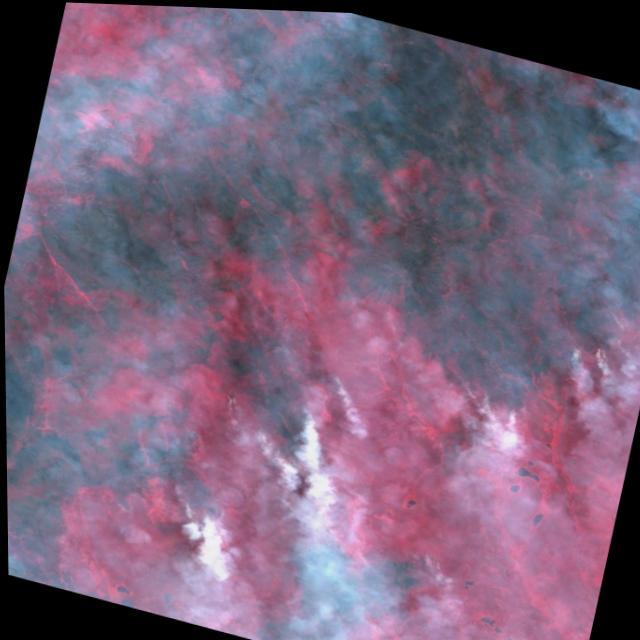fire: (175, 333, 373, 484), (424, 348, 547, 434), (553, 284, 640, 375), (143, 461, 243, 540)
